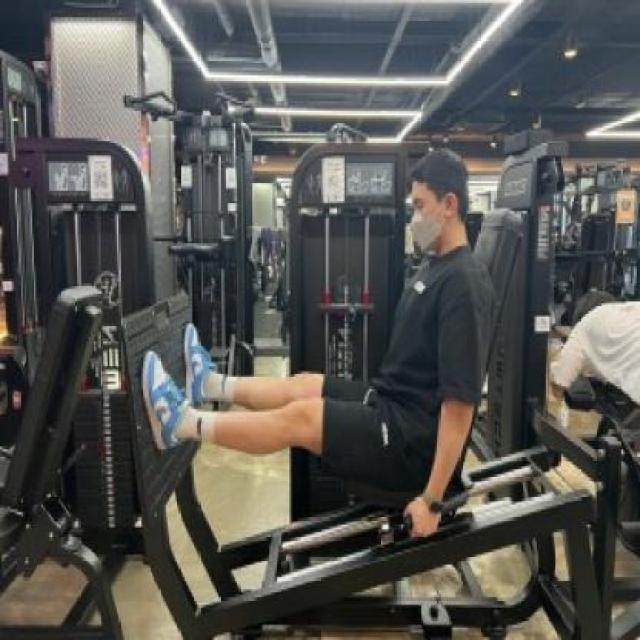leg press: (112, 112, 640, 640)
